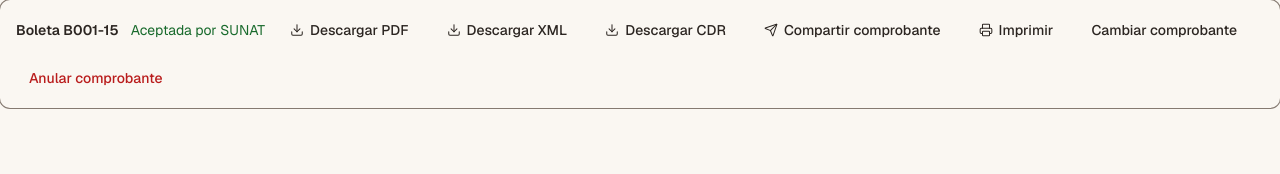
Scenario: IssuedInvoice: compartir el PDF › si el PDF no está disponible lo dice en español
Click the button "Compartir comprobante" at (852, 30), box 751,12 -> 954,48
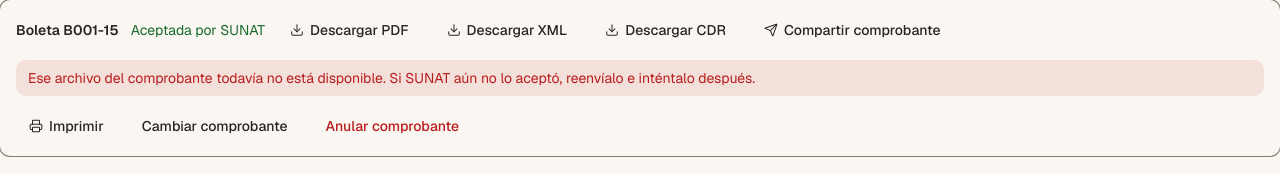
expect the message shows "Ese archivo del comprobante todavía no está disponible.": met, box 28,69 -> 755,87
